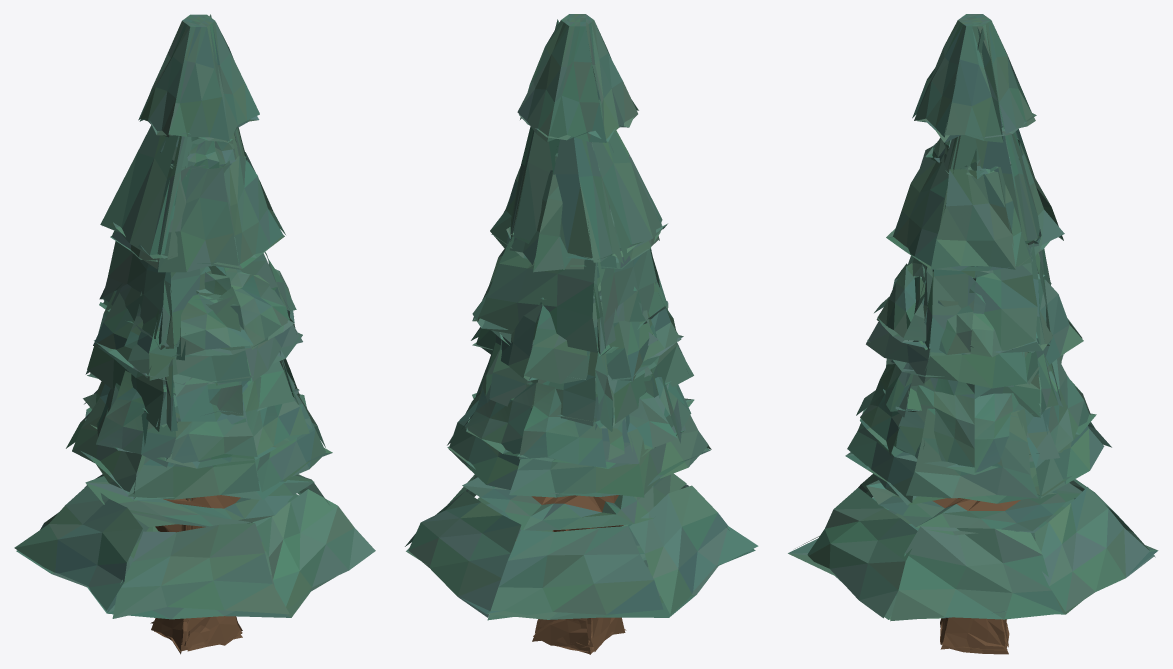
Rendered from midnight-spruce-trees.glb.
The picture shows the model from 3 angles, left to right: view 1: azimuth 30°, elevation 25°; view 2: azimuth 150°, elevation 25°; view 3: azimuth 270°, elevation 25°; orthographic projection.
Parts seen in each view (by area): view 1: Spruce0.011, Spruce2.010, Spruce1.011; view 2: Spruce0.011, Spruce2.010, Spruce1.011; view 3: Spruce0.011, Spruce1.011, Spruce2.010.
Part boxes in pixels (x1,y1,x2,y2): Spruce0.011: [14, 14, 375, 647]; Spruce2.010: [85, 14, 299, 654]; Spruce1.011: [83, 99, 312, 651]; Spruce0.011: [405, 14, 758, 654]; Spruce2.010: [472, 19, 693, 651]; Spruce1.011: [461, 75, 694, 654]; Spruce0.011: [788, 14, 1158, 650]; Spruce1.011: [856, 111, 1096, 654]; Spruce2.010: [883, 28, 1064, 646].
Size of the model in its own units: 0.4696 by 1.01 by 0.5468.
